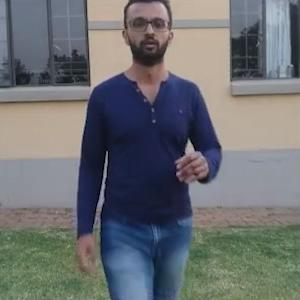follow: (71, 2, 200, 299)
